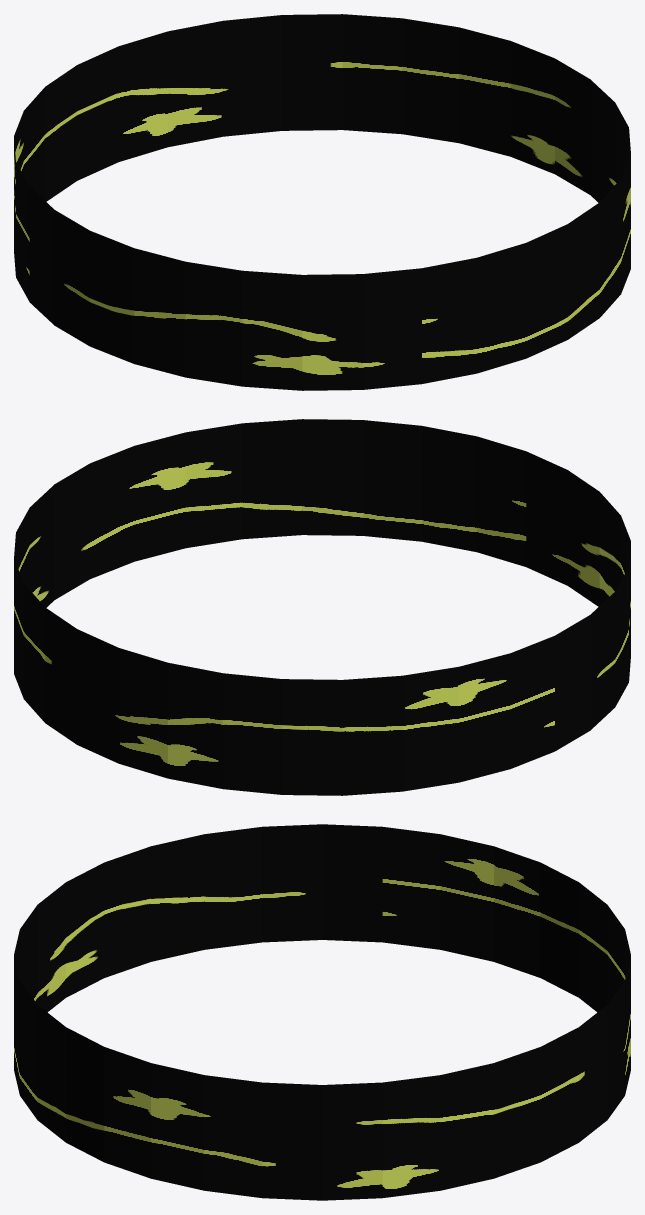
File: Piyopiyo.obj
The picture shows the model from 3 angles, top to bottom: view 1: azimuth 30°, elevation 25°; view 2: azimuth 150°, elevation 25°; view 3: azimuth 270°, elevation 25°; orthographic projection.
Visible parts, largest first — view 1: 円柱; view 2: 円柱; view 3: 円柱.
Part boxes in pixels (x1,y1,x2,y2): 円柱: (14,14,630,390); 円柱: (14,419,630,795); 円柱: (14,824,630,1200).
Size of the model in its own units: 2 by 0.4138 by 2.
Materials: 1 (1 with a texture image).
